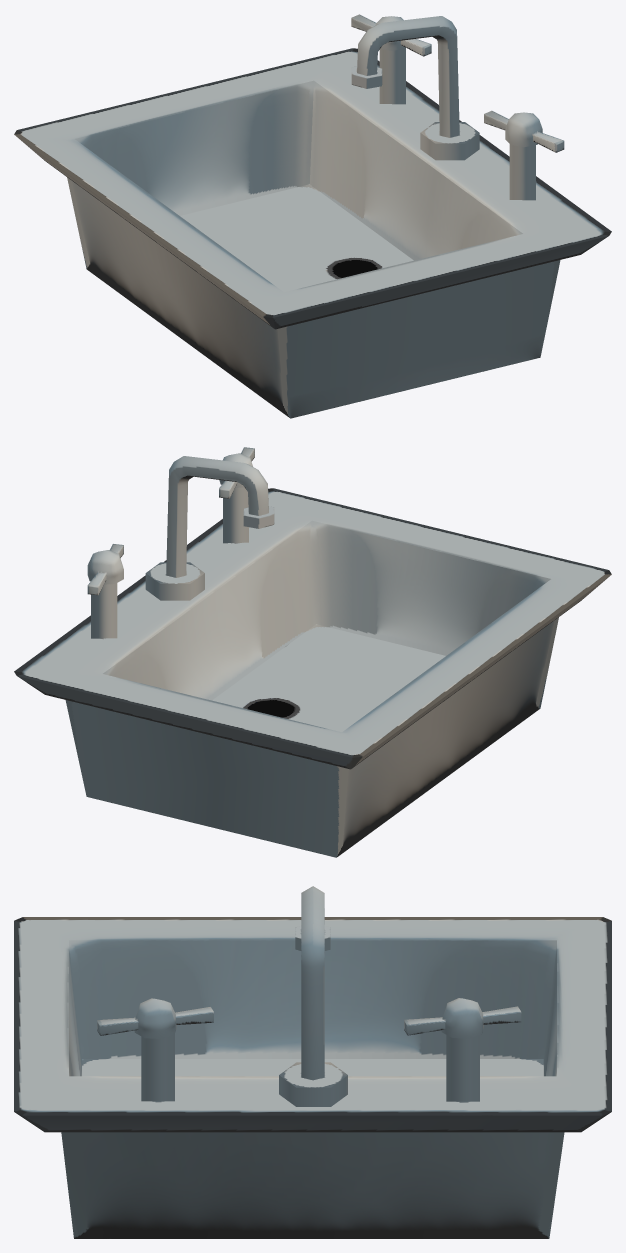
The model's file is sink_low_poly_gray_pallet.glb.
The picture shows the model from 3 angles, top to bottom: view 1: azimuth 30°, elevation 25°; view 2: azimuth 150°, elevation 25°; view 3: azimuth 270°, elevation 25°; orthographic projection. The views are drawn at different scales.
Parts seen in each view (by area): view 1: Object_2; view 2: Object_2; view 3: Object_2.
Part boxes in pixels (x1,y1,x2,y2): Object_2: [14, 14, 611, 418]; Object_2: [14, 447, 611, 857]; Object_2: [14, 886, 611, 1238].
Bounding box in the file's own units: 53.71 × 40.21 × 68.38.
1 material, 1 textured.
